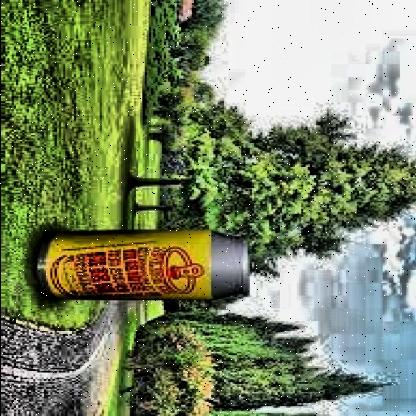Can: (31, 228, 255, 304)
